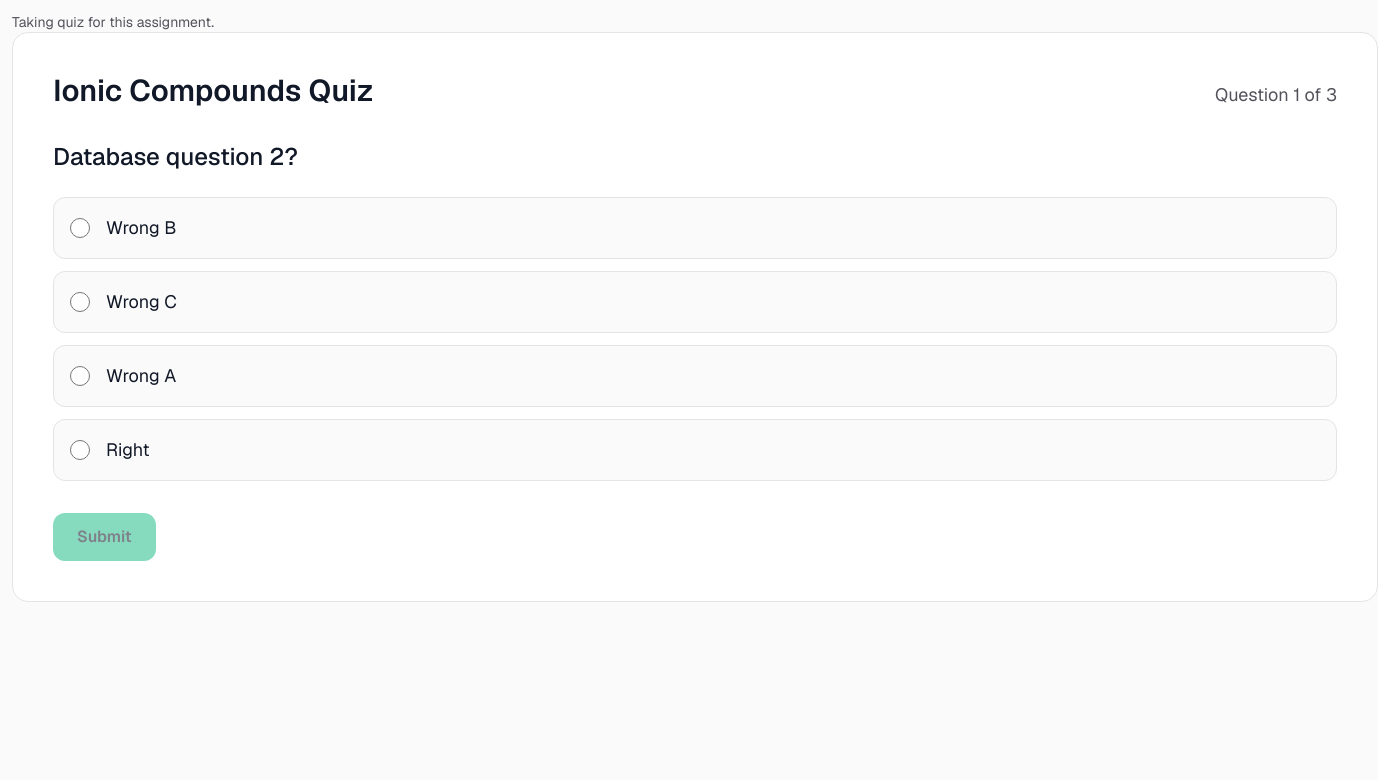
Test: LewisQuiz › does not reveal answer correctness in the client
Expected: the text "Question 1 of 3" is shown, [1215, 81, 1337, 109]
Click the radio button labelled "Right" at (80, 450), box [70, 440, 90, 460]
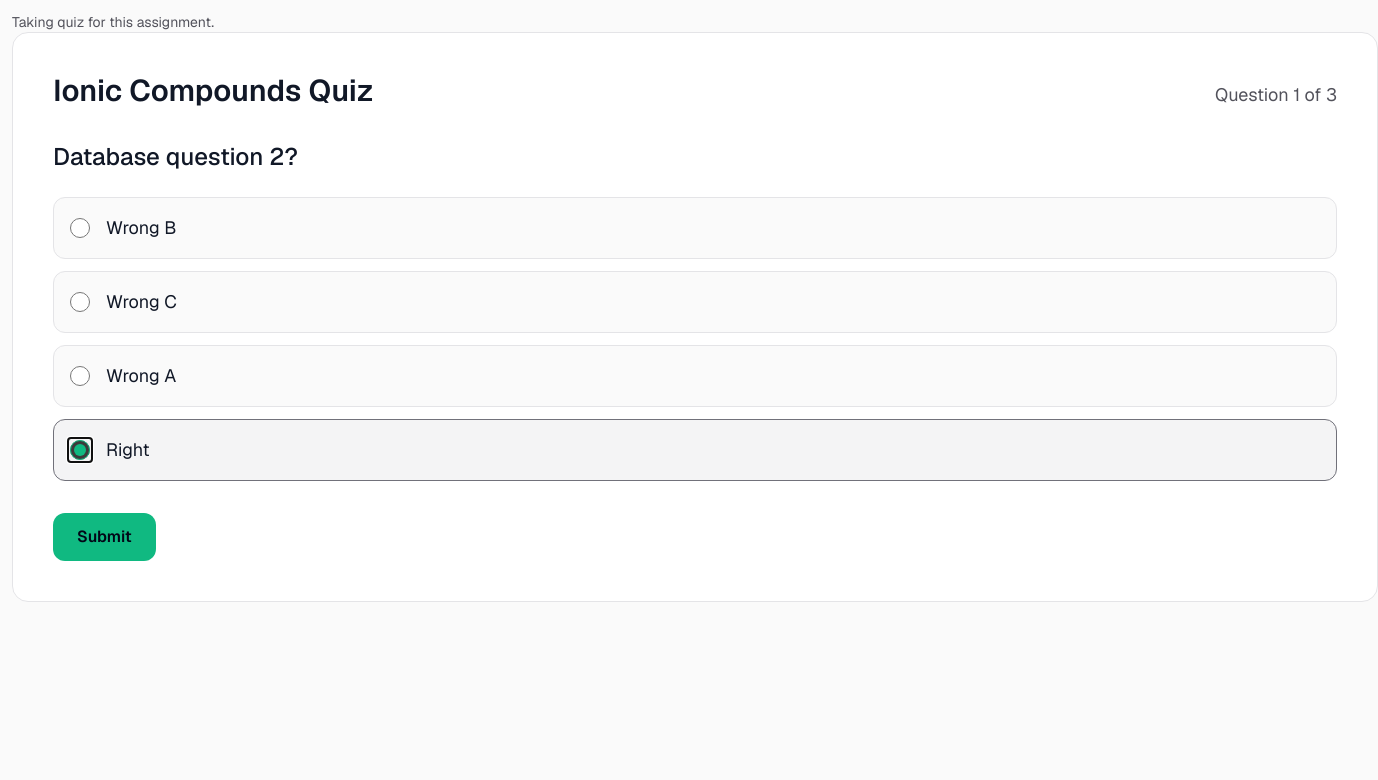
Click the button "Submit" at (104, 537), box [53, 513, 156, 561]
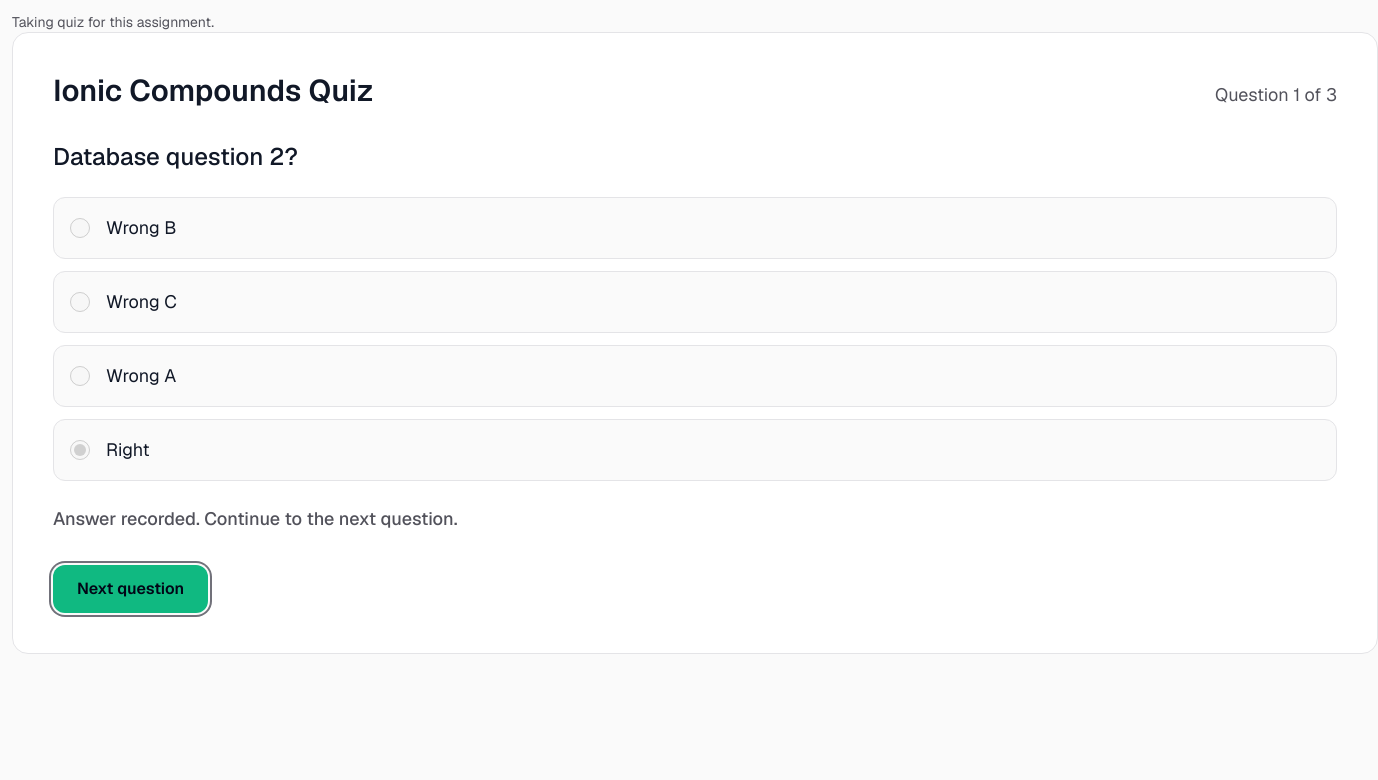
Now the message shows "Answer recorded", box [53, 507, 458, 530]
